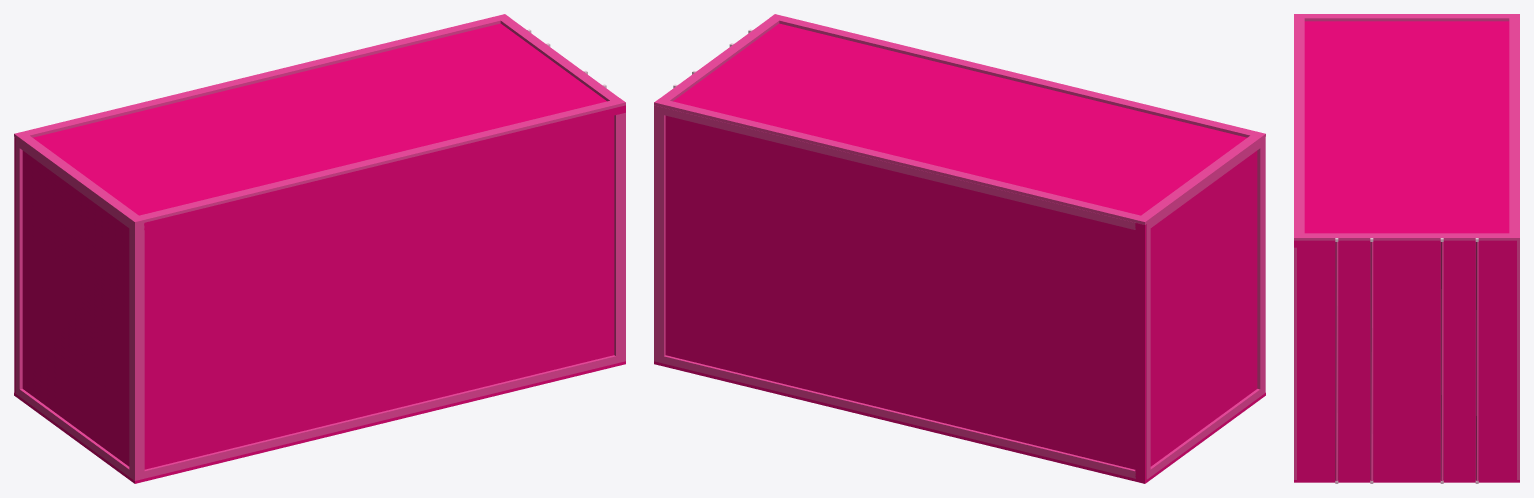
The model's file is Container(4).glb.
The picture shows the model from 3 angles, left to right: view 1: azimuth 30°, elevation 25°; view 2: azimuth 150°, elevation 25°; view 3: azimuth 270°, elevation 25°; orthographic projection. The views are drawn at different scales.
Visible parts, largest first — view 1: Root; view 2: Root; view 3: Root.
Part boxes in pixels (x1,y1,x2,y2): Root: (14,14,625,483); Root: (654,14,1265,483); Root: (1294,14,1519,483).
Size of the model in its own units: 3.52 by 1.78 by 1.49.
